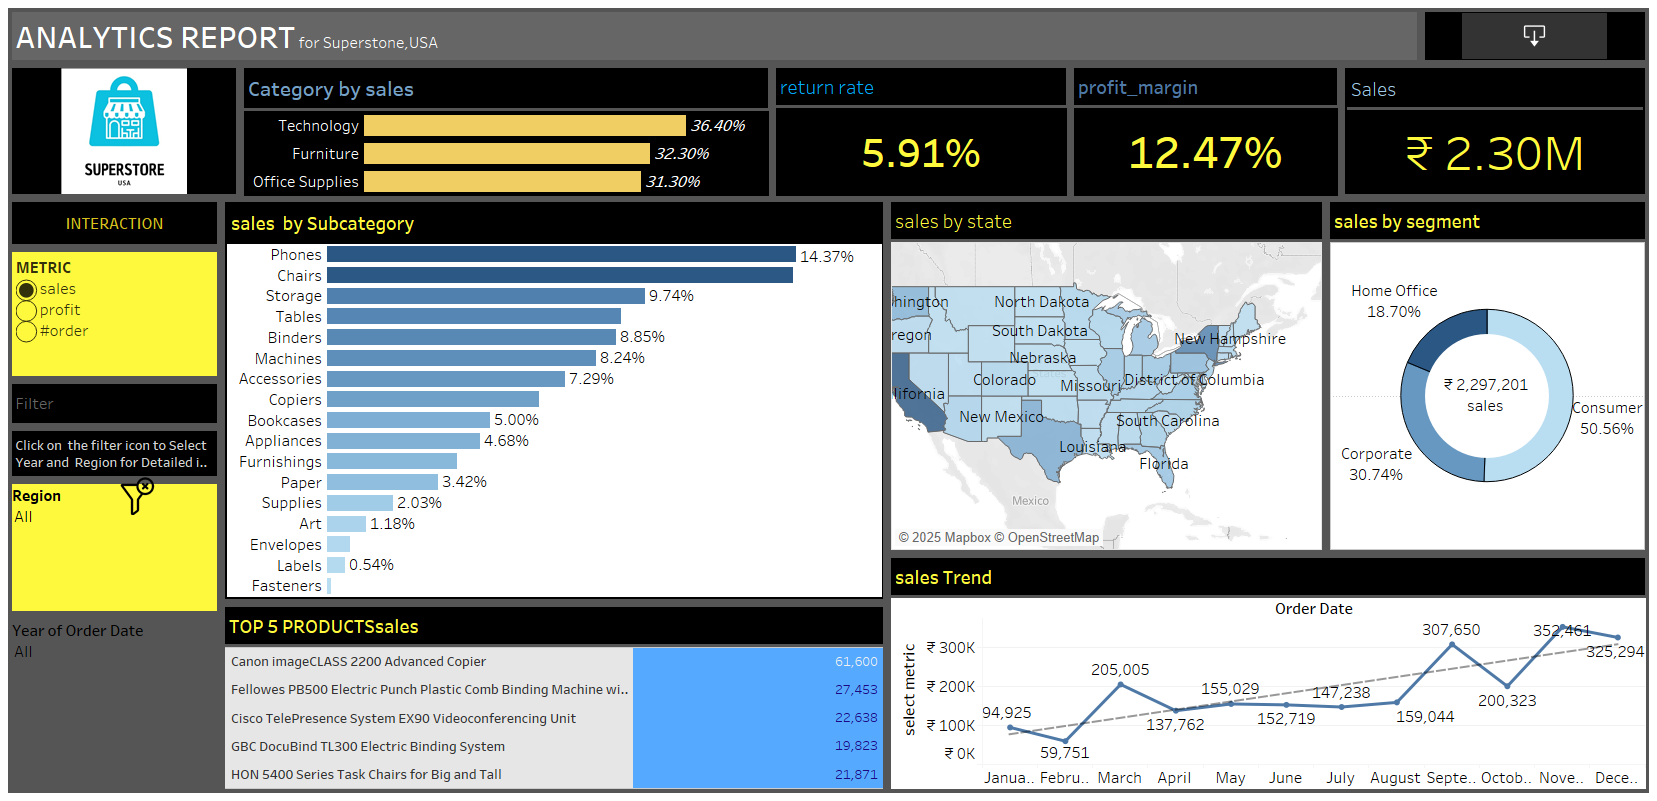

What the dashboard file says about the page in this screenshot:
{"tool":"tableau","page":{"name":"Dashboard ","canvas":[1000,1000],"units":"permille","ordinal":0},"visuals":[{"type":"text","box":[4.8,10,852.7,69.5]},{"type":"dashboard-object","box":[857.6,10,137.6,69.5]},{"type":"image","param":"Image/DASH.jpg","box":[4.8,79.4,140.2,168.2]},{"type":"worksheet","title":"bar chart","mark":"Automatic","rows":["Category"],"cols":["Calculation_1525031425845399553"],"box":[145.1,79.4,320.8,168.2]},{"type":"worksheet","title":"RR KPI","mark":"Automatic","box":[465.9,79.4,179.7,168.2]},{"type":"worksheet","title":"profit kip","mark":"Automatic","box":[645.6,79.4,163.8,168.2]},{"type":"worksheet","title":"sales KPI","mark":"Automatic","box":[809.4,79.4,185.7,168.2]},{"type":"text","box":[4.8,247.7,128.7,62.2]},{"type":"worksheet","title":"BAR CHART2","mark":"Automatic","rows":["Sub-Category"],"cols":["Calculation_1525031425845399553"],"box":[133.5,247.7,401.7,504.6]},{"type":"worksheet","title":"MAP CHART","mark":"Automatic","box":[535.2,247.7,265.1,444.3]},{"type":"worksheet","title":"donut chart","mark":"Pie","rows":["Calculation_346777173419016193","Calculation_346777173419016193"],"box":[800.3,247.7,194.9,444.3]},{"type":"parameter","param":"[Parameters].[Parameter 2]","box":[4.8,309.8,128.7,164.6]},{"type":"text","box":[4.8,474.4,128.7,58.5]},{"type":"text","box":[4.8,532.9,128.7,65.8]},{"type":"dashboard-object","box":[62.3,596,40.7,47.1]},{"type":"filter","title":"LINE CHART","param":"[federated.0cp2oor0glxibi1bjehpc138dgml].[none:Region:nk]","box":[4.8,598.7,128.7,168.5]},{"type":"worksheet","title":"LINE CHART","mark":"Automatic","rows":["Calculation_1525031425845399553"],"cols":["Order Date"],"box":[535.2,692,460,298]},{"type":"worksheet","title":"TABLE","mark":"Automatic","rows":["Product Name"],"box":[133.5,752.3,401.7,237.7]},{"type":"filter","title":"BAR CHART2","param":"[federated.0cp2oor0glxibi1bjehpc138dgml].[yr:Order Date:ok]","box":[4.8,767.2,128.7,121.1]}]}

Visuals, with their boxes on the dashboard's canvas, which has no fixed pixel size, in thousandths of its width and height (x1, y1, x2, y2). These are canvas units, not pixel positions in the 1657x801 screenshot, which may show the page scaled, cropped or inside an application window:
text: 5,10,858,80
dashboard-object: 858,10,995,80
image: 5,79,145,248
"bar chart" worksheet: 145,79,466,248
"RR KPI" worksheet: 466,79,646,248
"profit kip" worksheet: 646,79,809,248
"sales KPI" worksheet: 809,79,995,248
text: 5,248,134,310
"BAR CHART2" worksheet: 134,248,535,752
"MAP CHART" worksheet: 535,248,800,692
"donut chart" worksheet (Pie marks): 800,248,995,692
parameter: 5,310,134,474
text: 5,474,134,533
text: 5,533,134,599
dashboard-object: 62,596,103,643
"LINE CHART" filter: 5,599,134,767
"LINE CHART" worksheet: 535,692,995,990
"TABLE" worksheet: 134,752,535,990
"BAR CHART2" filter: 5,767,134,888
